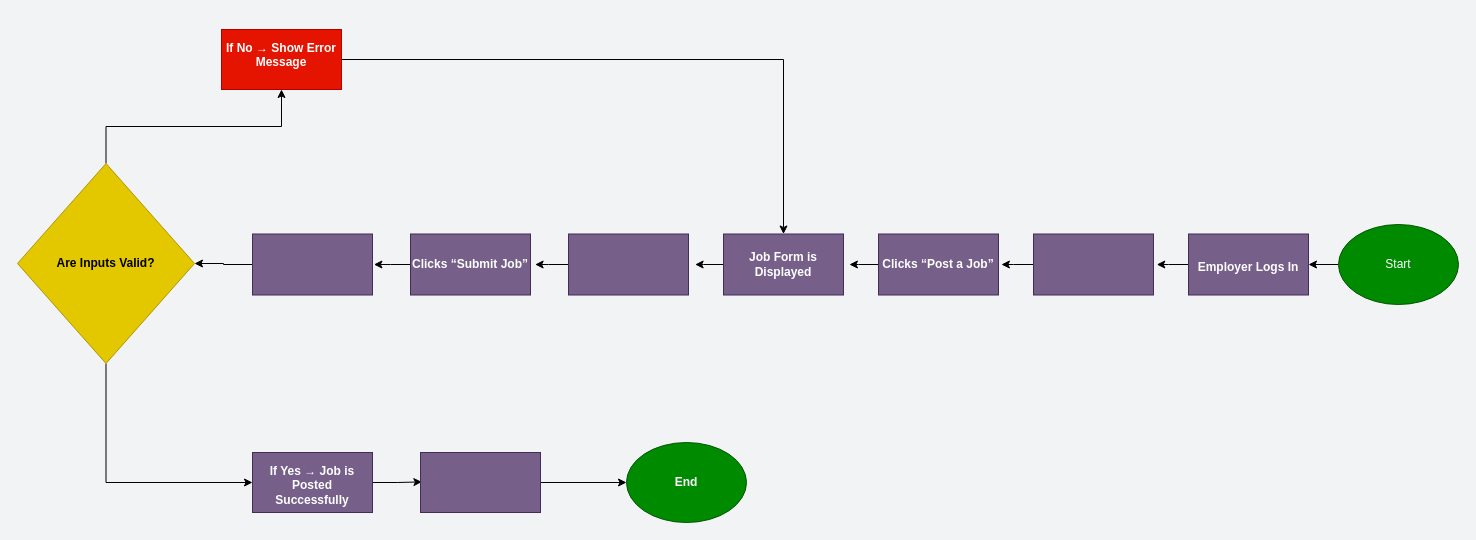
Some shapes in this 1476 by 540 pixel diagram are drawn without their labels. Each missing label, with the centre of its shape:
Display “Job Posted Successfully” Message: [480,482]
Employer Enters Job Title, Description, Skills, etc.: [628,264]
Navigates to Dashboard: [1093,264]
System Validates Form: [312,264]
